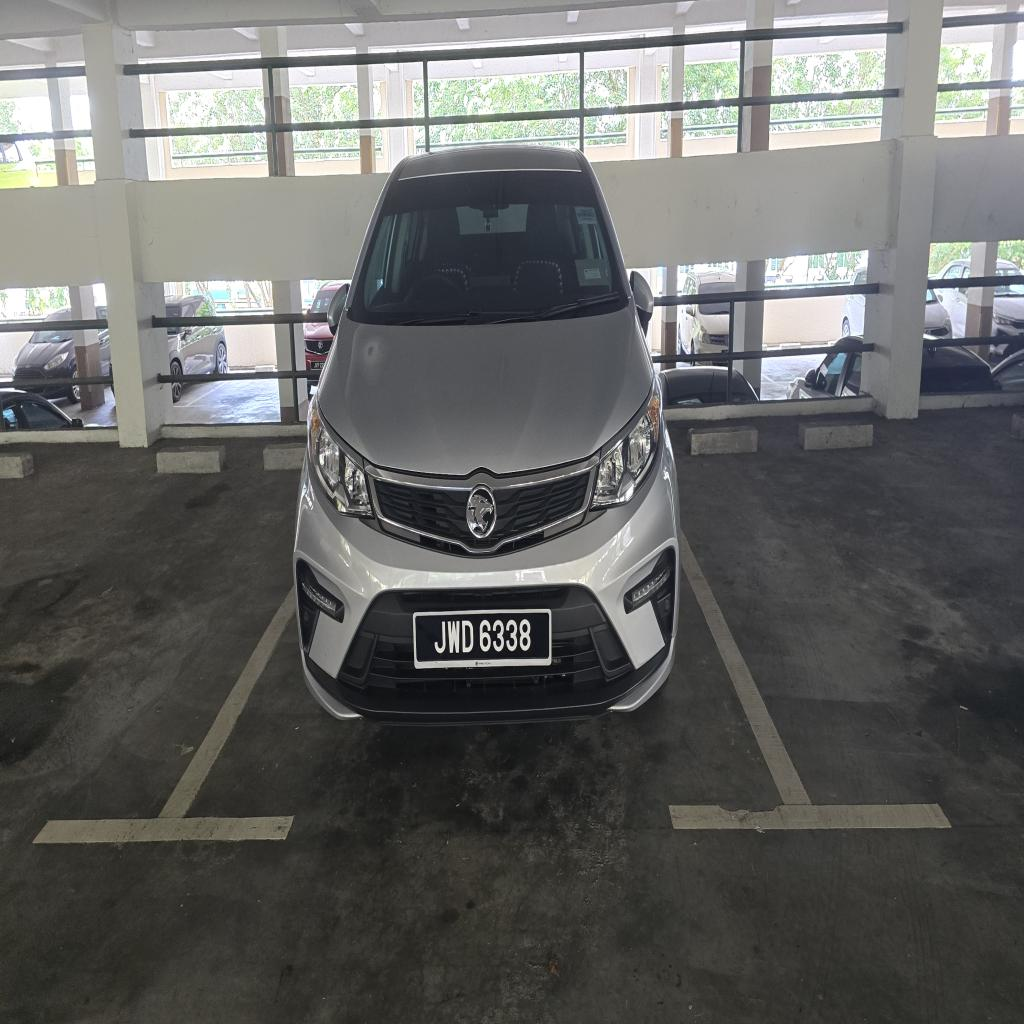car: (294, 147, 678, 722)
car plate: (415, 610, 551, 668)
